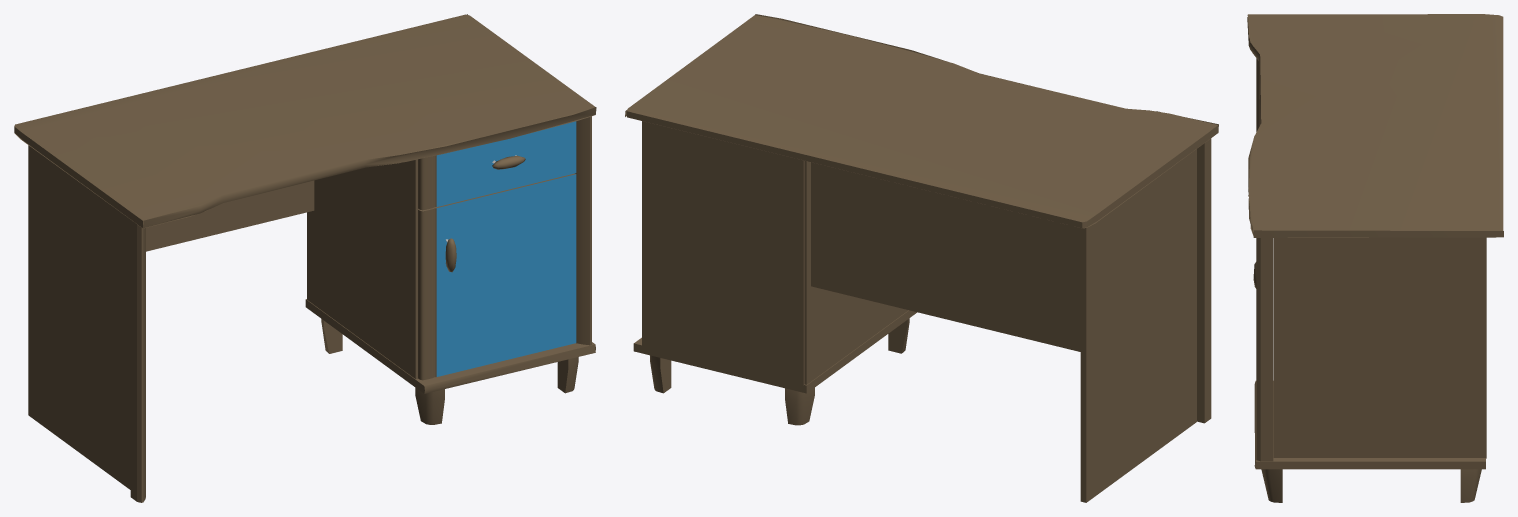
File: escritorio.fbx
3 renders of one model, left to right at view 1: azimuth 30°, elevation 25°; view 2: azimuth 150°, elevation 25°; view 3: azimuth 270°, elevation 25°, orthographic. The views are drawn at different scales.
Parts seen in each view (by area): view 1: Cube.001, Cube.007, Cube.005_Cube.004, Cube.008, Cube.001_Cube.003, Cube.004_Cube.001, Cube.002, Cube.003_Cube.005, Plane, Sphere; view 2: Cube.001, Cube.009, Cube.002, Cube.007, Cube.008, Cube.001_Cube.003, Cube.003_Cube.005, Plane, Cube.006; view 3: Cube.001, Cube.006, Cube.001_Cube.003, Cube.003_Cube.005, Plane.
Part boxes in pixels (bbox=[...]): Cube.001: bbox=[14, 14, 596, 228]; Cube.007: bbox=[28, 137, 130, 489]; Cube.005_Cube.004: bbox=[418, 173, 576, 380]; Cube.008: bbox=[307, 159, 418, 378]; Cube.001_Cube.003: bbox=[130, 116, 591, 502]; Cube.004_Cube.001: bbox=[418, 121, 576, 210]; Cube.002: bbox=[146, 180, 314, 251]; Cube.003_Cube.005: bbox=[305, 299, 595, 393]; Plane: bbox=[321, 319, 578, 424]; Sphere: bbox=[445, 155, 525, 272]; Cube.001: bbox=[625, 14, 1218, 228]; Cube.009: bbox=[647, 122, 804, 385]; Cube.002: bbox=[811, 162, 1080, 351]; Cube.007: bbox=[1080, 149, 1196, 502]; Cube.008: bbox=[804, 161, 908, 384]; Cube.001_Cube.003: bbox=[1197, 138, 1211, 423]; Cube.003_Cube.005: bbox=[633, 310, 916, 393]; Plane: bbox=[650, 318, 909, 425]; Cube.006: bbox=[642, 121, 647, 347]; Cube.001: bbox=[1247, 14, 1503, 237]; Cube.006: bbox=[1273, 237, 1486, 458]; Cube.001_Cube.003: bbox=[1256, 58, 1273, 461]; Cube.003_Cube.005: bbox=[1254, 381, 1485, 469]; Plane: bbox=[1261, 469, 1481, 502].
Bounding box in the file's own units: 12020 × 7216 × 6030.
